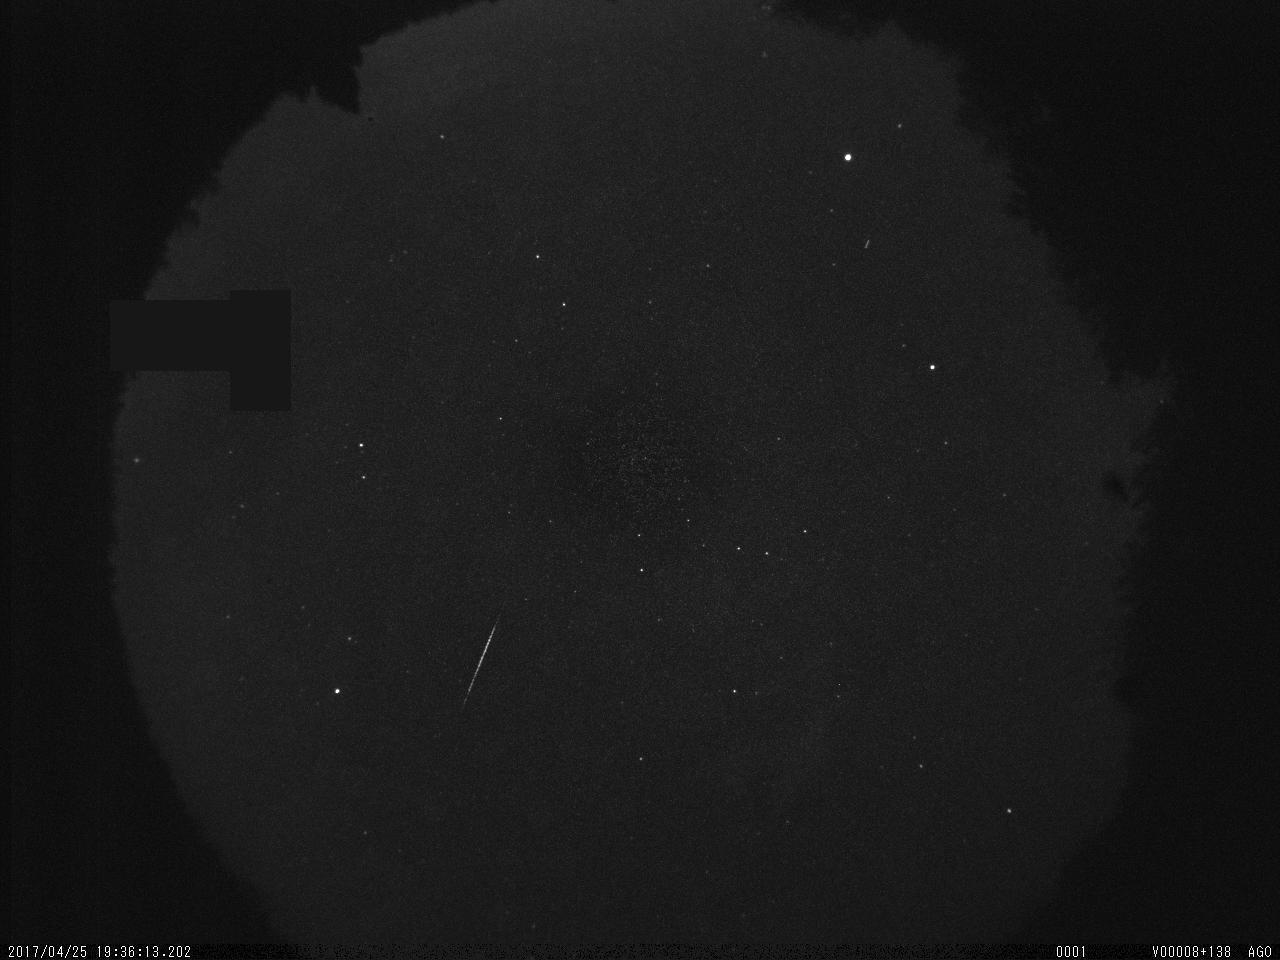meteor: (435, 604, 525, 716)
